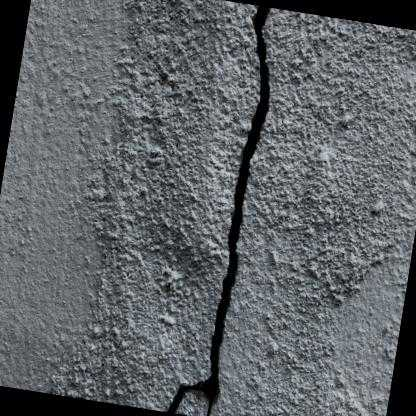crack: (160, 5, 272, 416)
